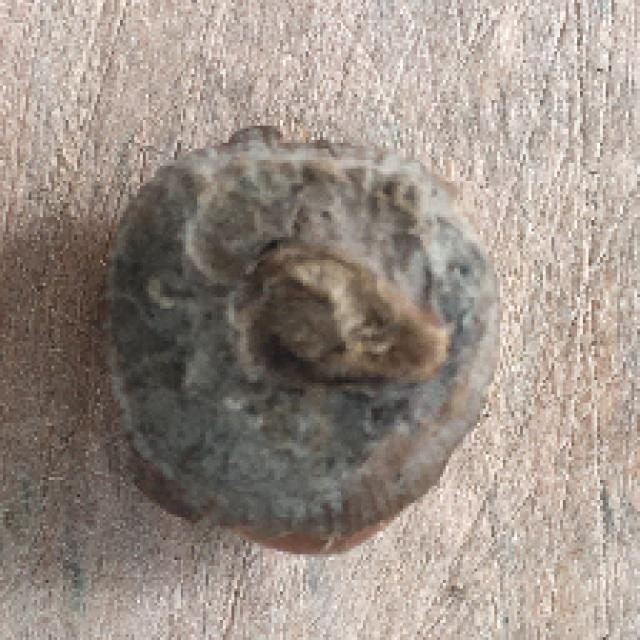damagedHazelnut: (87, 121, 528, 561)
